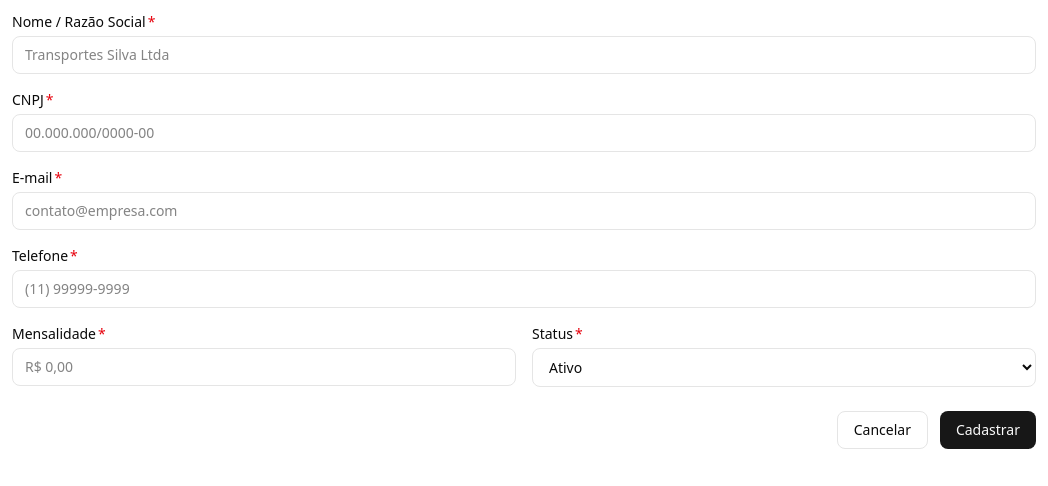
CustomerForm — validação › nome curto → erro "Mínimo 2 caracteres" após blur
Type "A" into the field labelled "Nome / Razão Social*".
click(524, 55); type("A")  # box [12,36,1036,74]
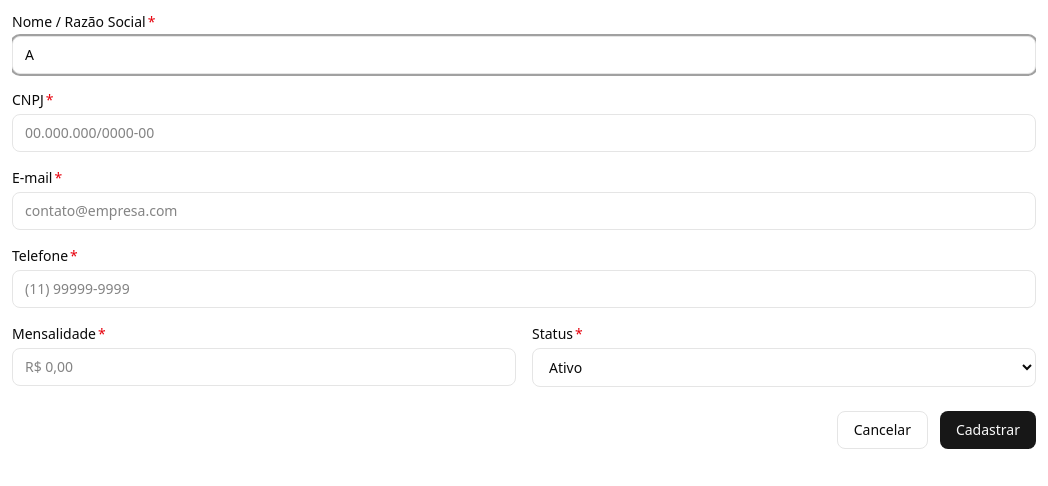
Press Tab
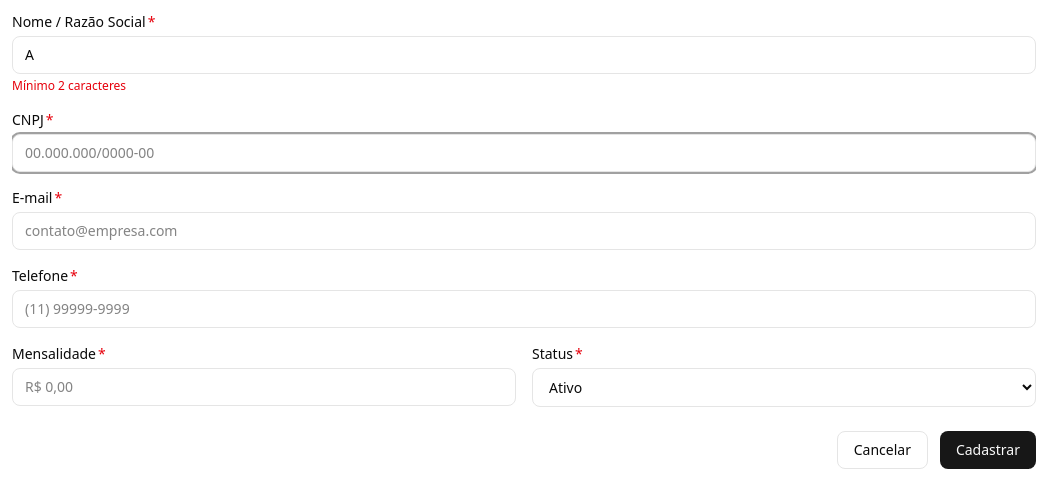
Expected: the message reads "Mínimo 2 caracteres", [12,77,126,94]
